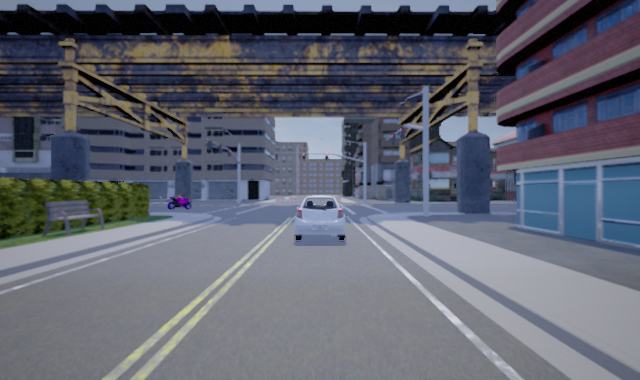motobike: (165, 192, 191, 210)
traffic_light: (399, 126, 406, 139), (391, 132, 396, 144), (302, 151, 307, 160), (325, 153, 329, 162)
vehicle: (292, 194, 347, 242)
